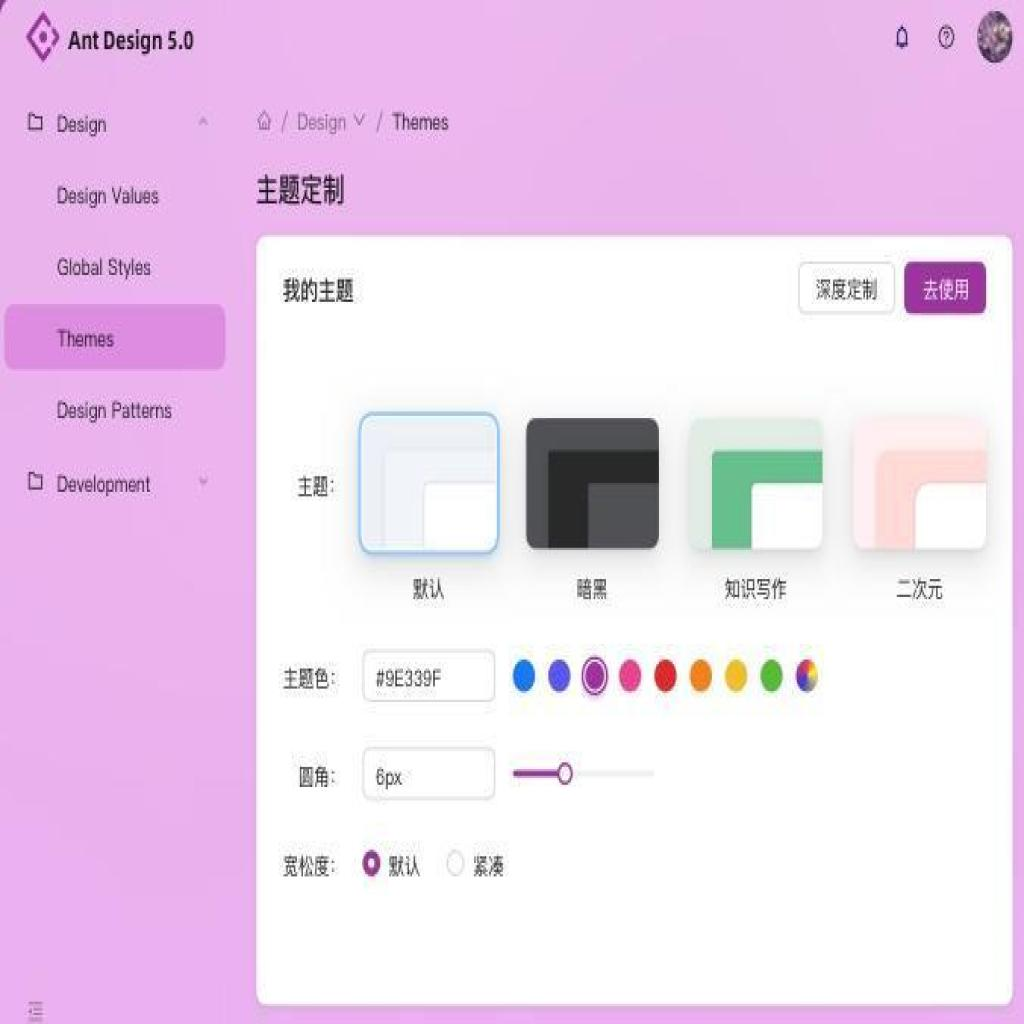button: (798, 262, 894, 310), (904, 260, 986, 316)
icon: (936, 16, 959, 56), (891, 16, 913, 54), (256, 107, 274, 139), (26, 465, 44, 496), (26, 110, 47, 136), (194, 468, 212, 496), (194, 110, 212, 136), (352, 107, 366, 132)
input: (365, 648, 495, 700), (362, 749, 495, 796)
label: (67, 24, 197, 56), (53, 393, 176, 425), (53, 181, 161, 208), (55, 252, 153, 280), (54, 320, 116, 353), (392, 108, 452, 136), (298, 107, 350, 134)
radio: (361, 847, 380, 879), (444, 850, 466, 876)
